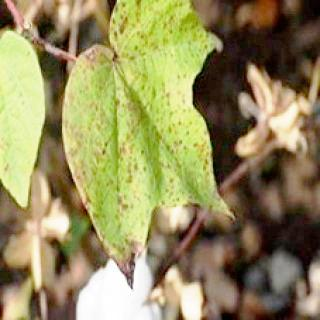leaf spot: (64, 3, 238, 291)
